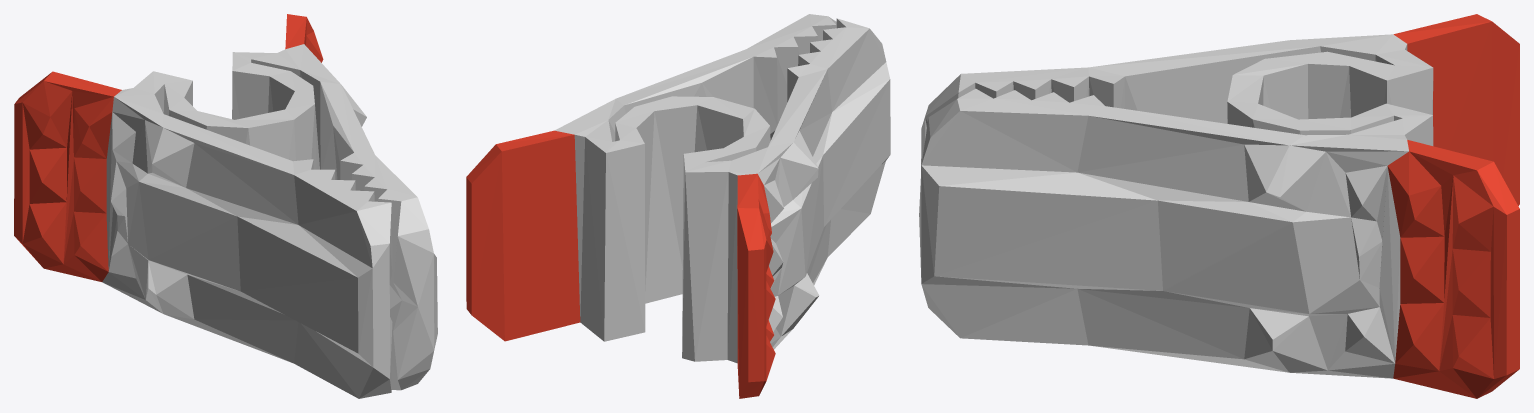
Rendered from CrocodileClip.fbx.
3 renders of one model, left to right at view 1: azimuth 30°, elevation 25°; view 2: azimuth 150°, elevation 25°; view 3: azimuth 270°, elevation 25°, orthographic. The views are drawn at different scales.
Parts seen in each view (by area): view 1: Crocodile_clip_v1.2; view 2: Crocodile_clip_v1.2; view 3: Crocodile_clip_v1.2.
Part boxes in pixels (box(x1,y1,x2,y2)): Crocodile_clip_v1.2: box(14, 14, 437, 398); Crocodile_clip_v1.2: box(466, 14, 890, 398); Crocodile_clip_v1.2: box(919, 14, 1519, 398).
Size of the model in its own units: 2616 by 1600 by 3751.
